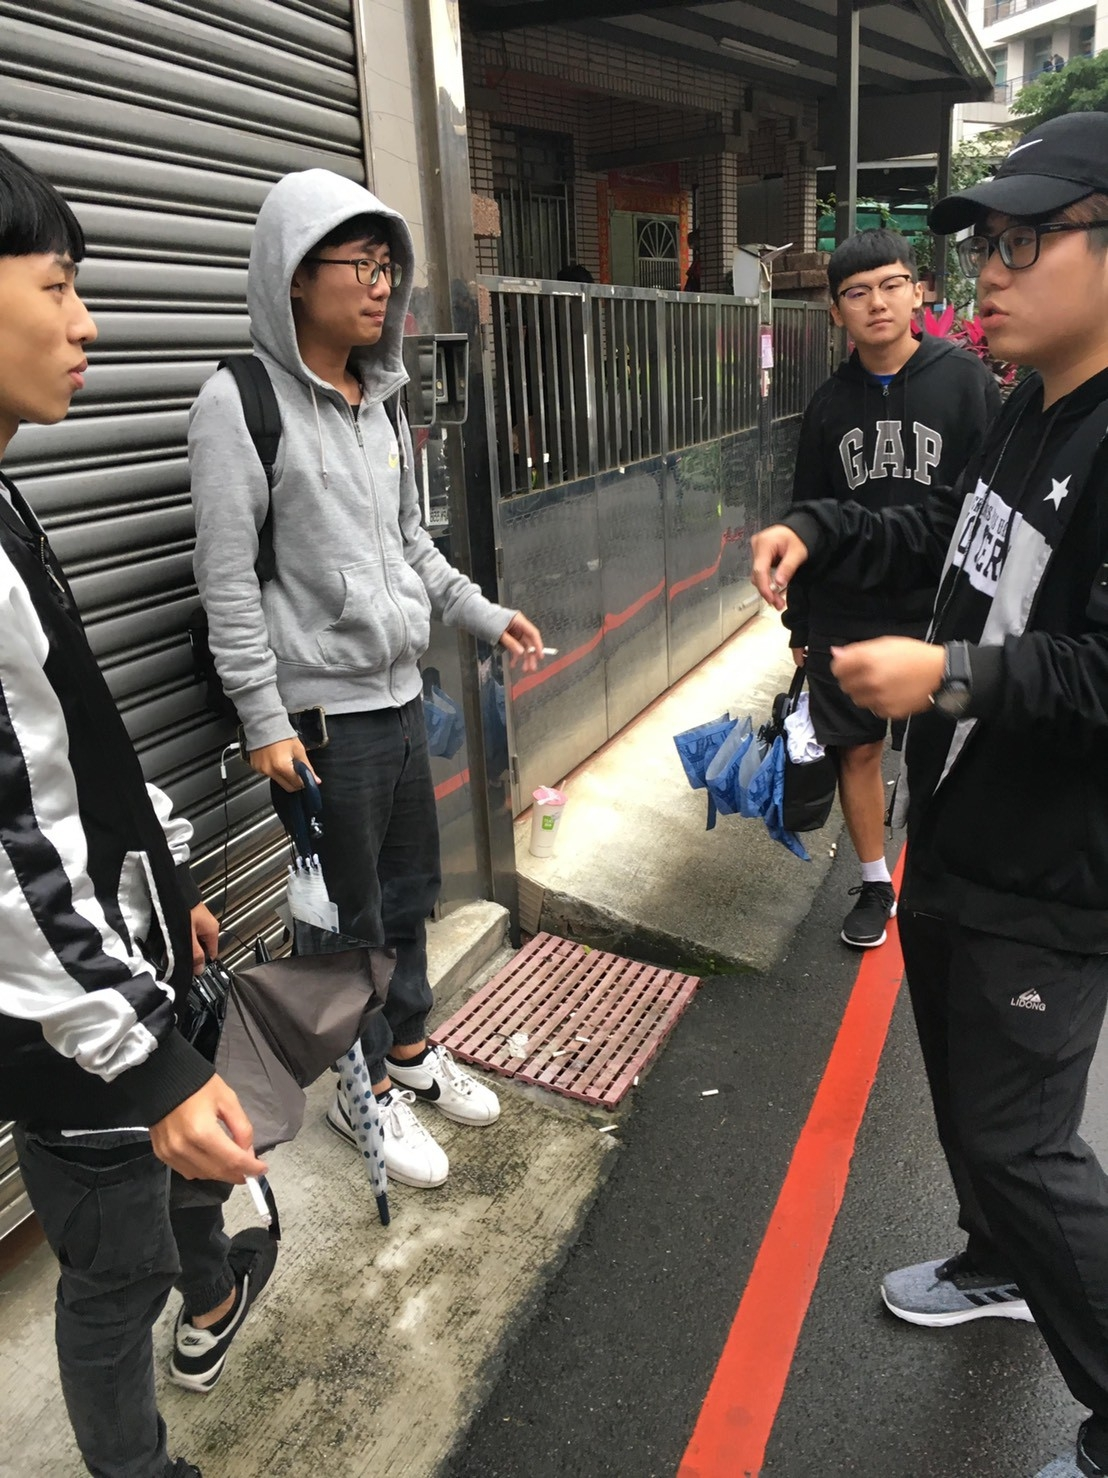people: (2, 143, 264, 1478), (928, 109, 1108, 1478), (212, 176, 455, 1169), (797, 223, 957, 988)
